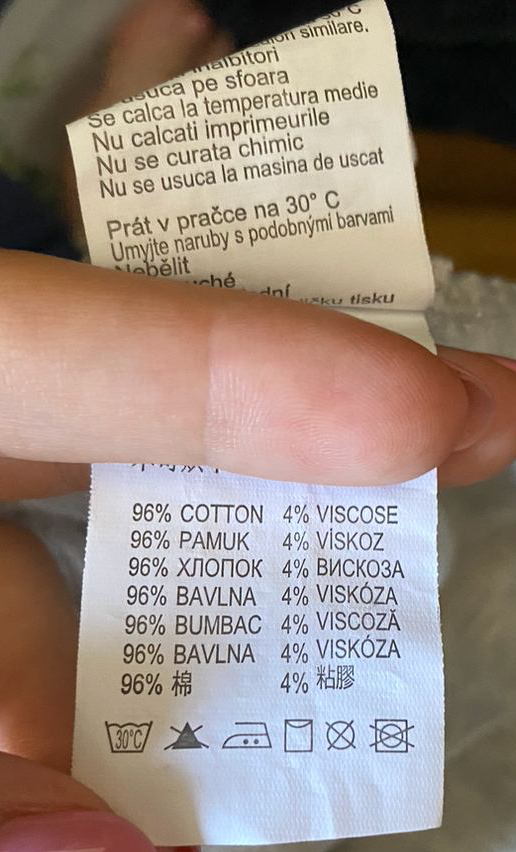do_not_bleach: (163, 718, 211, 756)
do_not_dry_clean: (321, 715, 361, 756)
do_not_tumble_drying: (369, 714, 417, 757)
ironing_at_med_temp: (220, 717, 274, 754)
line_dry: (282, 715, 316, 756)
wash_at_or_below_30: (100, 718, 154, 755)
